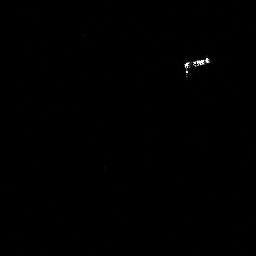ship: (184, 55, 210, 68)
